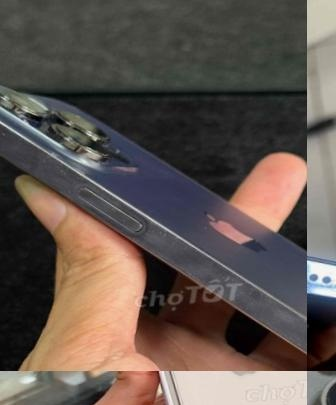scratch: (307, 204, 336, 359), (127, 214, 209, 258), (26, 145, 95, 195), (219, 269, 300, 310), (0, 99, 28, 149), (307, 371, 336, 405)
